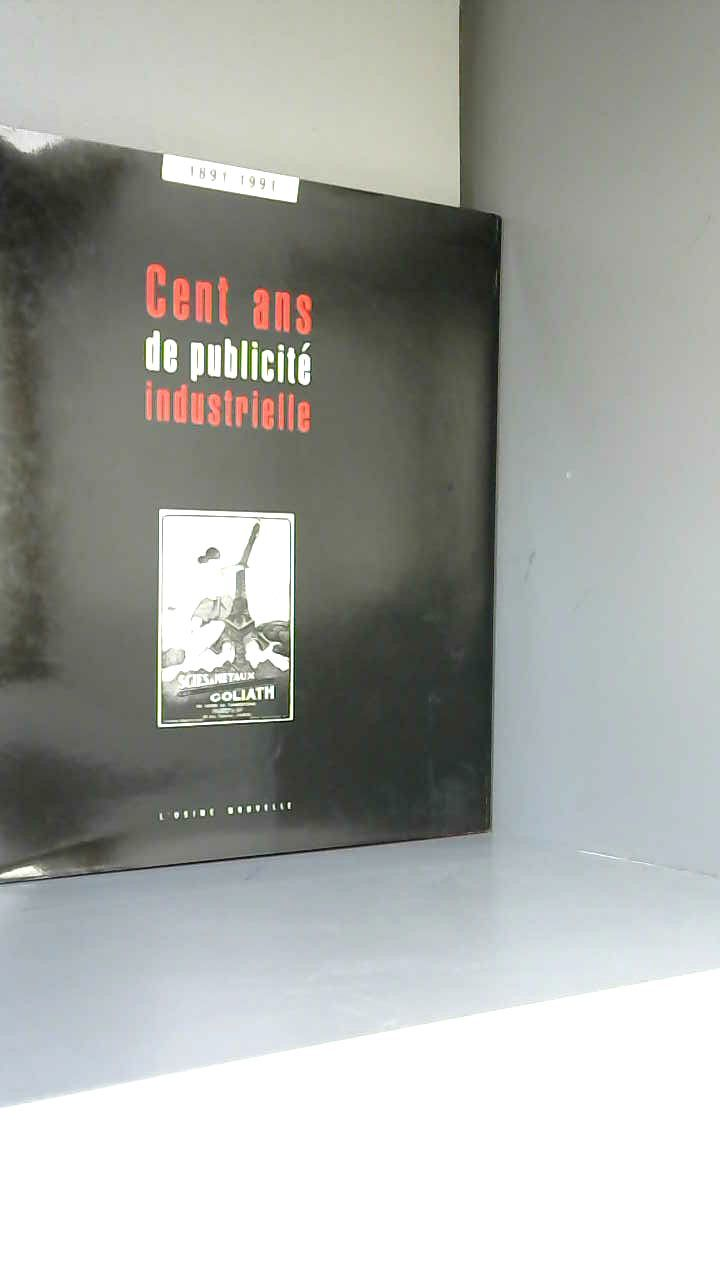book: (0, 105, 543, 910)
